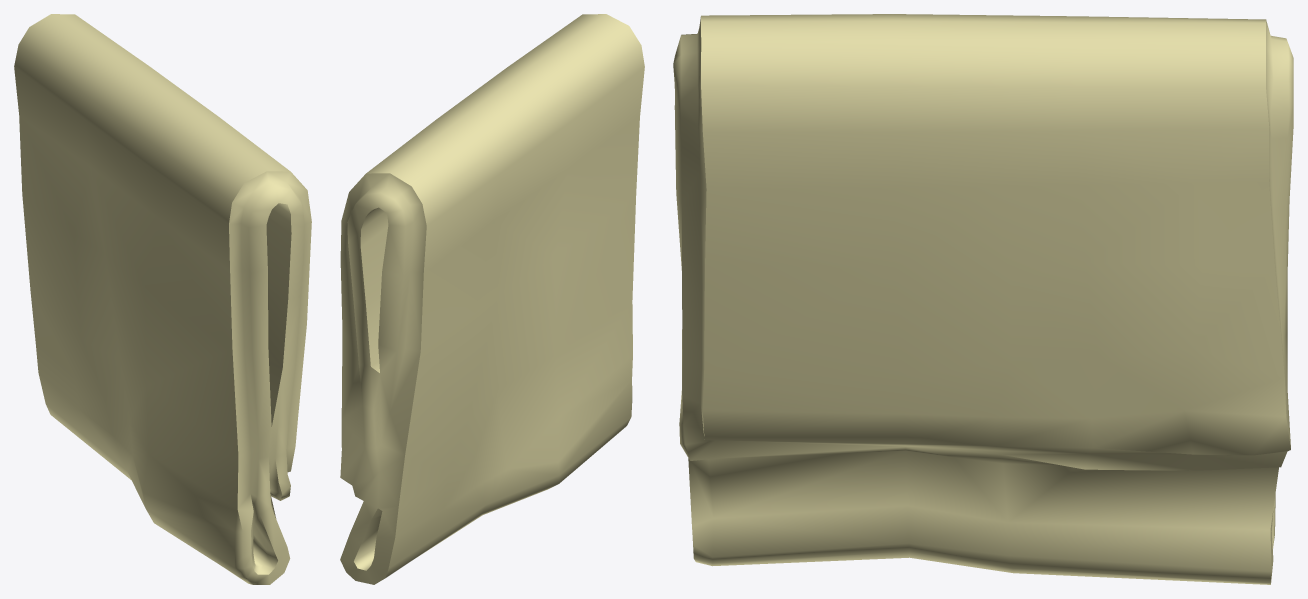
File: toalla 2.fbx
3 views of the same model, side by side, from view 1: azimuth 30°, elevation 25°; view 2: azimuth 150°, elevation 25°; view 3: azimuth 270°, elevation 25° (orthographic). The views are drawn at different scales.
Visible parts, largest first — view 1: Towel_B; view 2: Towel_B; view 3: Towel_B.
Boxes of the visible parts, x1=… form: Towel_B: x1=14, y1=14, x2=311, y2=584; Towel_B: x1=340, y1=14, x2=644, y2=584; Towel_B: x1=673, y1=14, x2=1293, y2=584.
Size of the model in its own units: 10.28 by 44.15 by 45.64.
